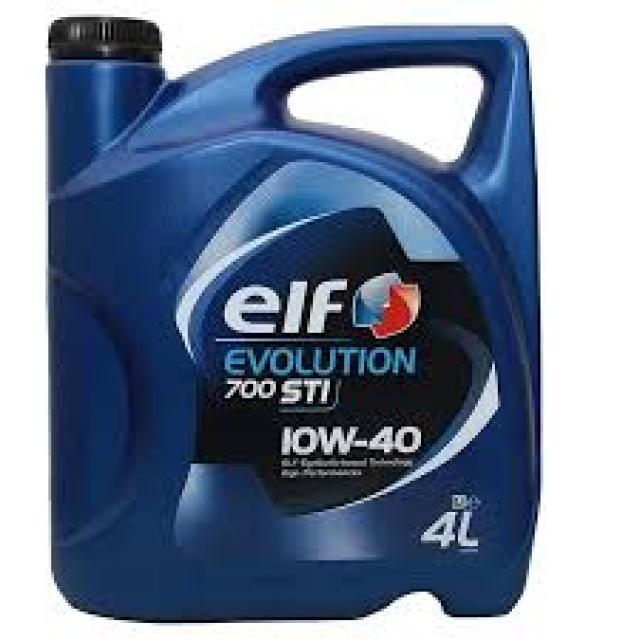motor_oil: (36, 9, 546, 626)
